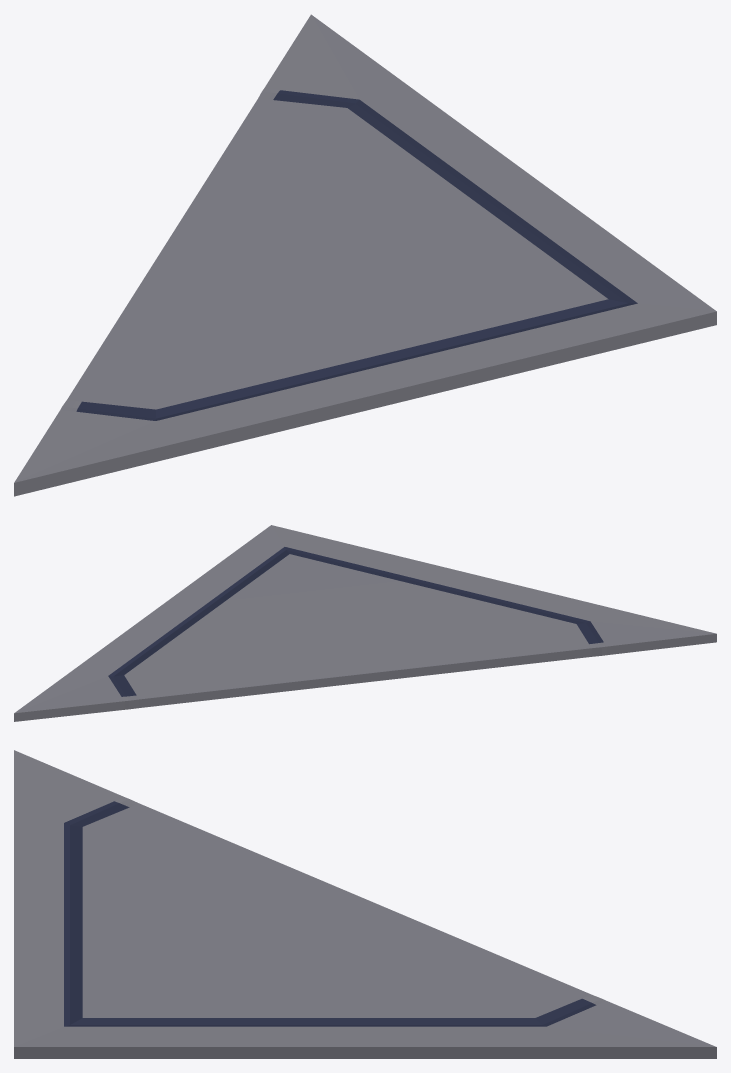
File: Floor_Corner_Straight.fbx
3 views of the same model, one above another, from view 1: azimuth 30°, elevation 25°; view 2: azimuth 150°, elevation 25°; view 3: azimuth 270°, elevation 25° (orthographic). The views are drawn at different scales.
Visible parts, largest first — view 1: Floor_Corner_Straight; view 2: Floor_Corner_Straight; view 3: Floor_Corner_Straight.
Part boxes in pixels (<box>): Floor_Corner_Straight: <box>14,14,716,496</box>; Floor_Corner_Straight: <box>14,525,716,721</box>; Floor_Corner_Straight: <box>14,750,716,1058</box>.
Bounding box in the file's own units: 700 × 13.43 × 700.
